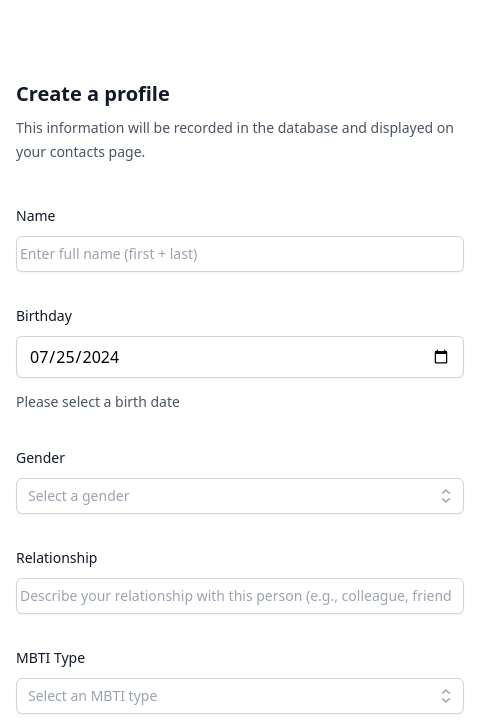
Test: CreateProfile Component Tests › shows error when required fields are missing
The image size is (481, 720).
Clear the field with placeholder "Enter full name (first + last)": (240, 254) [16,236,464,272]
(page scrolled)
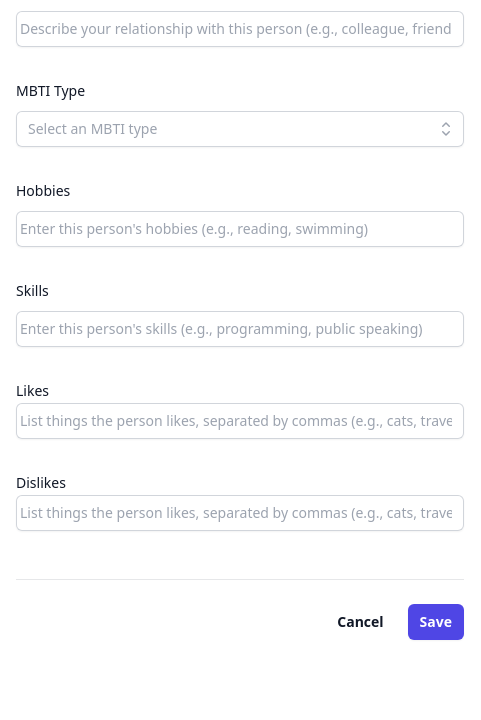
Click the button "Save": (436, 622) [408,604,464,640]
(page scrolled)
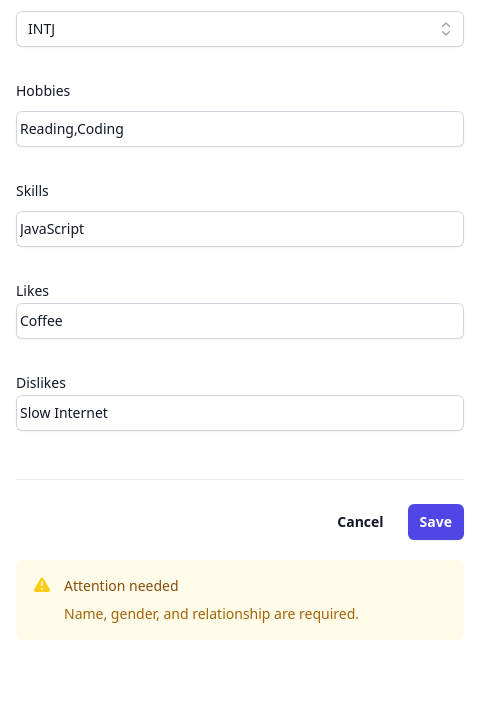
Check: the text "Name, gender, and relationship are required." is shown, box [64,604,359,624]
